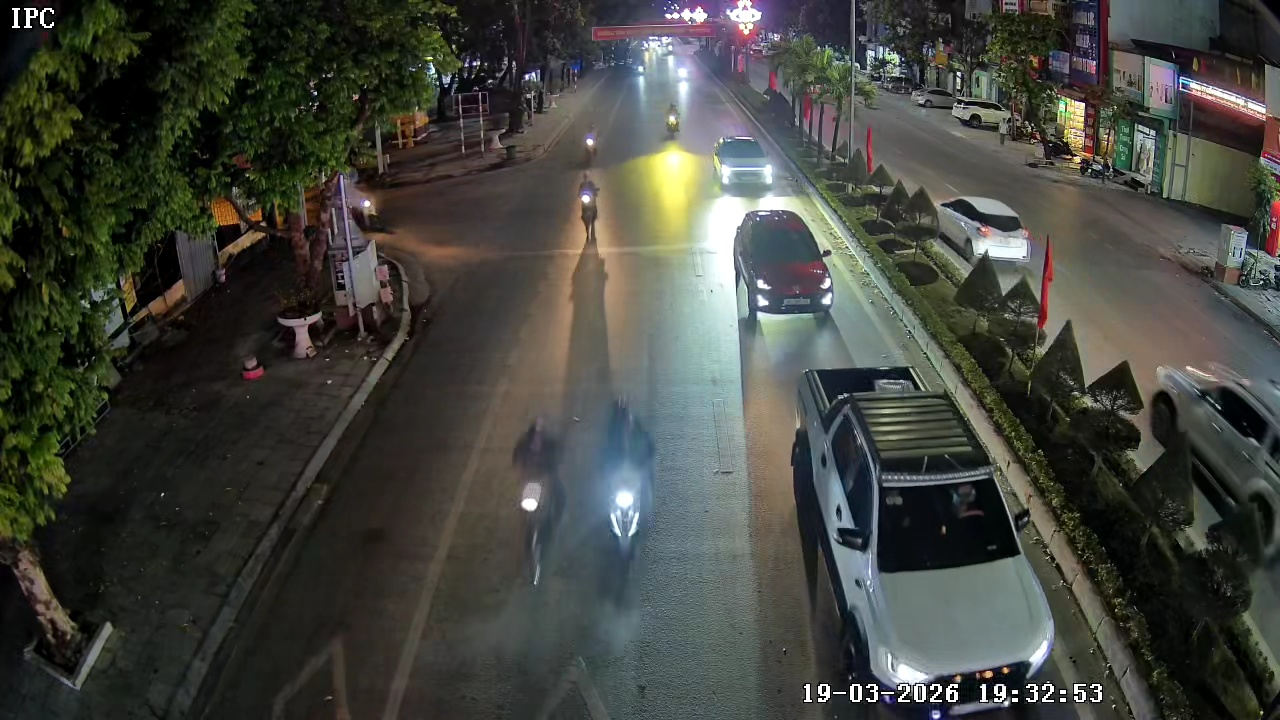car: (785, 364, 1067, 719), (733, 205, 836, 322), (933, 192, 1032, 267), (713, 135, 774, 191)
motorbike: (568, 167, 617, 250), (579, 118, 605, 163), (659, 98, 688, 137)
